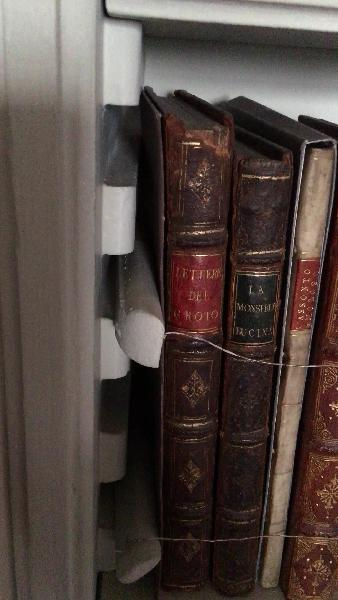Aa6-1: (144, 113, 232, 600)
Aa6-2: (221, 141, 284, 600)
Aa6-3: (252, 114, 334, 600)
